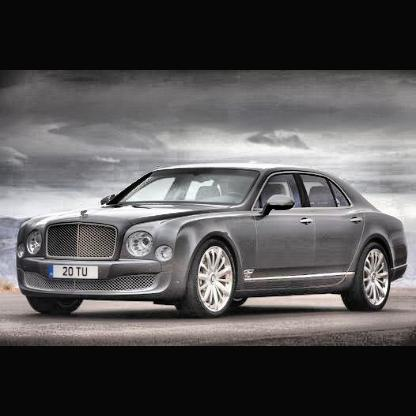Bentley Mulsanne Sedan 2011: (16, 161, 409, 319)
